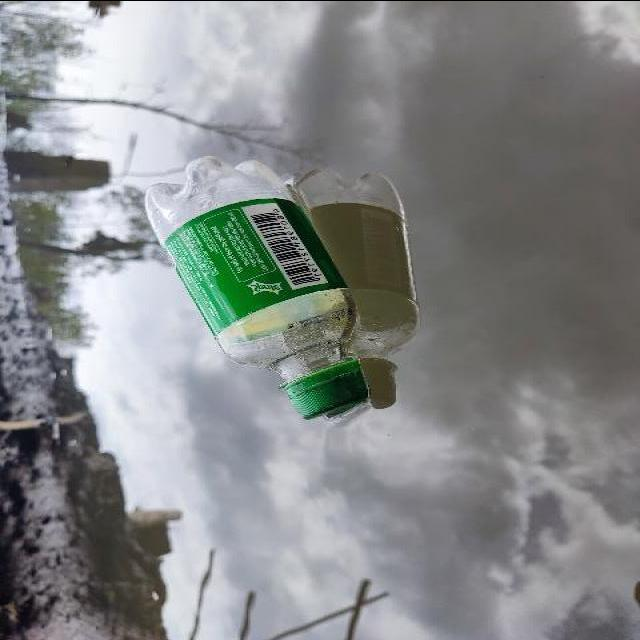Bottle: (135, 150, 383, 424)
